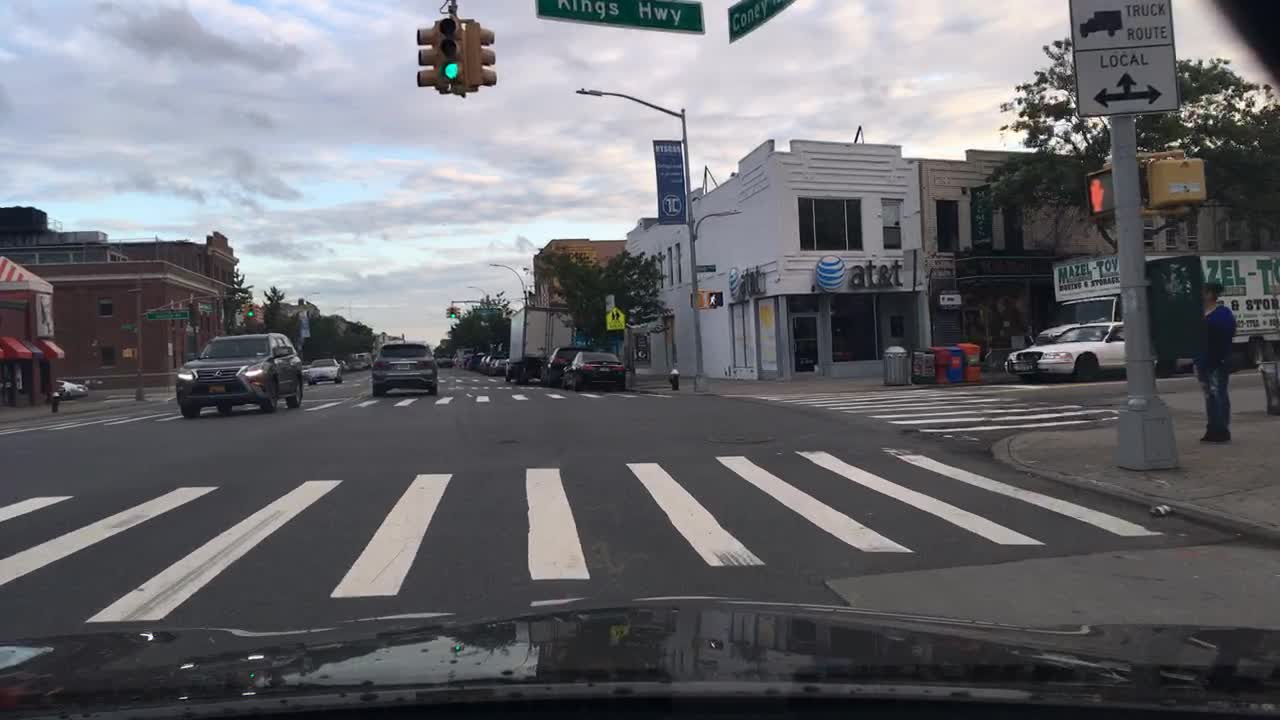car: (175, 332, 303, 418), (1005, 319, 1149, 379), (370, 340, 439, 397), (561, 349, 627, 394), (542, 345, 591, 384), (308, 355, 341, 385), (521, 353, 547, 383), (53, 378, 87, 397), (505, 352, 524, 385), (470, 353, 494, 372), (460, 352, 481, 372), (492, 355, 506, 377), (299, 363, 315, 382), (449, 352, 466, 369), (354, 350, 370, 368), (485, 357, 497, 373), (339, 363, 353, 372), (354, 360, 366, 370)
person: (1187, 279, 1235, 441)
traffic light: (1146, 159, 1207, 207), (435, 13, 465, 87), (466, 22, 496, 93), (1085, 167, 1112, 223), (415, 23, 436, 88), (688, 292, 706, 307), (708, 292, 723, 307), (444, 305, 454, 319), (238, 303, 247, 318), (123, 347, 134, 359), (247, 302, 254, 317), (253, 303, 260, 318), (450, 305, 455, 318), (456, 307, 461, 319)
traffic sign: (1069, 1, 1179, 120), (536, 0, 704, 36), (727, 0, 794, 42), (144, 308, 189, 319), (606, 307, 626, 329), (198, 298, 214, 313), (697, 262, 717, 272), (475, 307, 499, 313), (121, 322, 136, 330)
truck: (1053, 248, 1278, 375)
